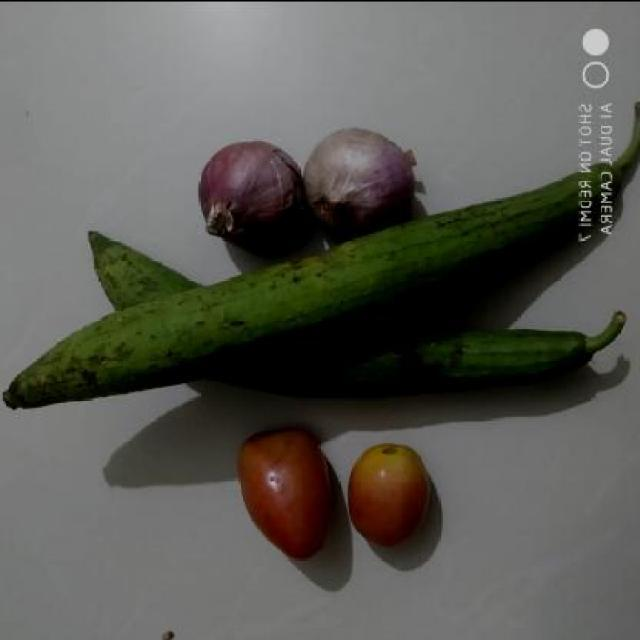Onion: (300, 109, 423, 242), (192, 138, 310, 252)
Sponge Gourd: (6, 245, 640, 430)
Tomato: (222, 423, 344, 569), (334, 416, 432, 558)
